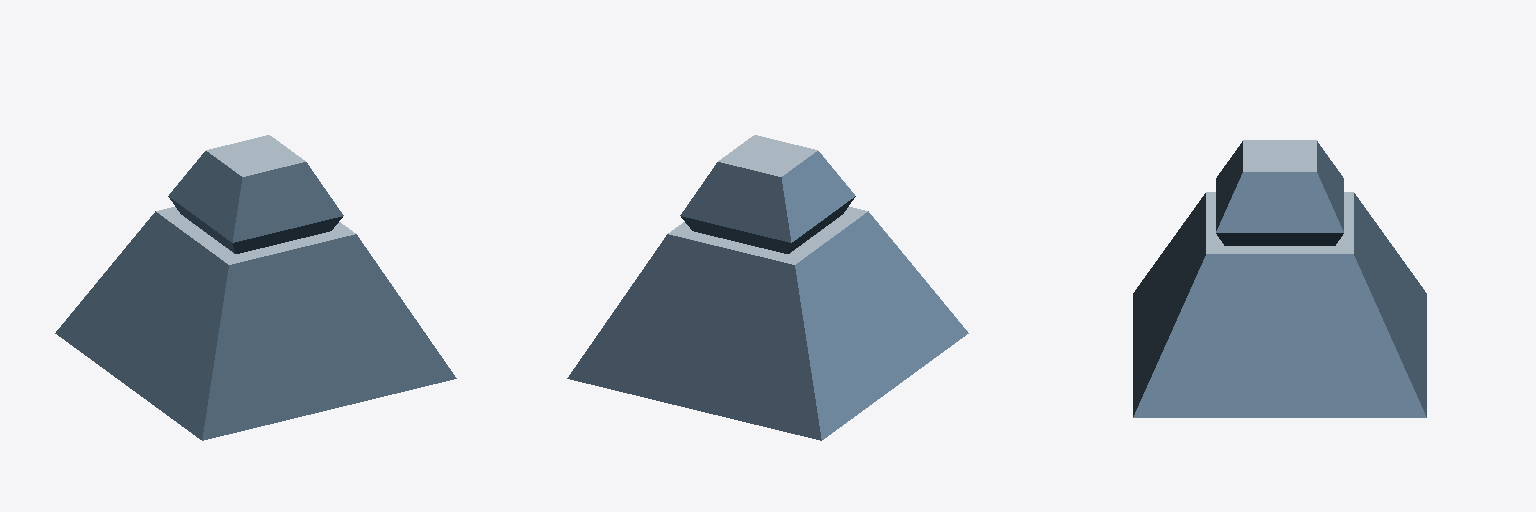
The model's file is Pyramid_Level2.obj.
3 views of the same model, side by side, from view 1: azimuth 30°, elevation 25°; view 2: azimuth 150°, elevation 25°; view 3: azimuth 270°, elevation 25° (orthographic).
Parts seen in each view (by area): view 1: Mesh1, Mesh2, Mesh3, Mesh4; view 2: Mesh1, Mesh2, Mesh3, Mesh4; view 3: Mesh2, Mesh1, Mesh3, Mesh4.
Part boxes in pixels (x1,y1,x2,y2): Mesh1: (202, 162, 456, 440); Mesh2: (55, 151, 241, 439); Mesh3: (156, 135, 355, 264); Mesh4: (168, 196, 342, 253); Mesh1: (567, 162, 821, 440); Mesh2: (782, 151, 968, 439); Mesh3: (668, 135, 867, 264); Mesh4: (681, 196, 855, 253); Mesh2: (1133, 172, 1426, 417); Mesh1: (1133, 141, 1426, 416); Mesh3: (1206, 140, 1353, 253); Mesh4: (1216, 233, 1343, 245).
Bounding box in the file's own units: 8 × 6 × 8.